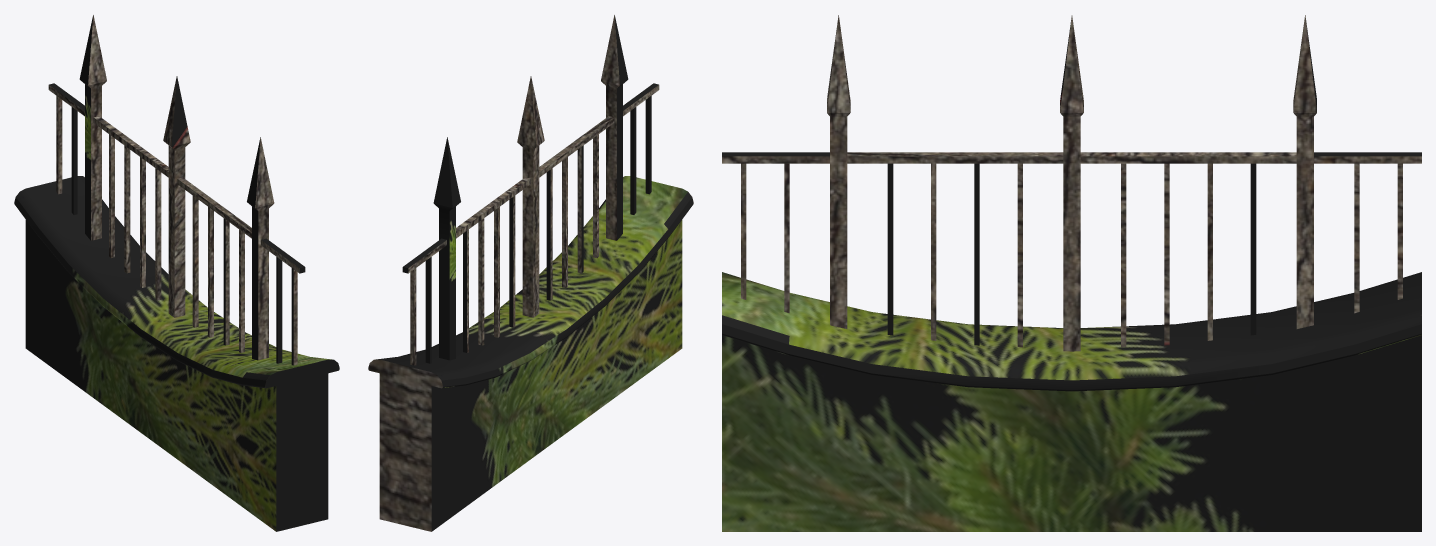
Rendered from valla2.gltf.
3 renders of one model, left to right at view 1: azimuth 30°, elevation 25°; view 2: azimuth 150°, elevation 25°; view 3: azimuth 270°, elevation 25°, orthographic. The views are drawn at different scales.
Parts seen in each view (by area): view 1: Fence2.002, Fence2.002_met_0; view 2: Fence2.002, Fence2.002_met_0; view 3: Fence2.002, Fence2.002_met_0.
Boxes of the visible parts, x1,y1,x2,y2 form: Fence2.002: (14,176,339,531); Fence2.002_met_0: (48,15,305,365); Fence2.002: (368,176,693,531); Fence2.002_met_0: (402,15,659,365); Fence2.002: (722,272,1421,531); Fence2.002_met_0: (722,15,1421,351).
Size of the model in its own units: 0.5318 by 2.43 by 3.09.
